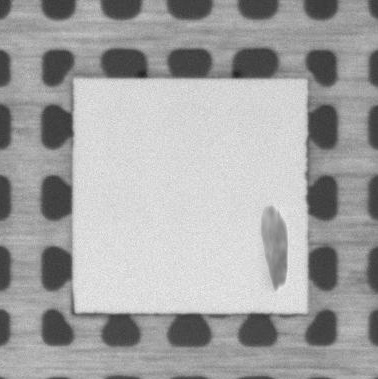DIE_INK: (258, 204, 289, 290)
